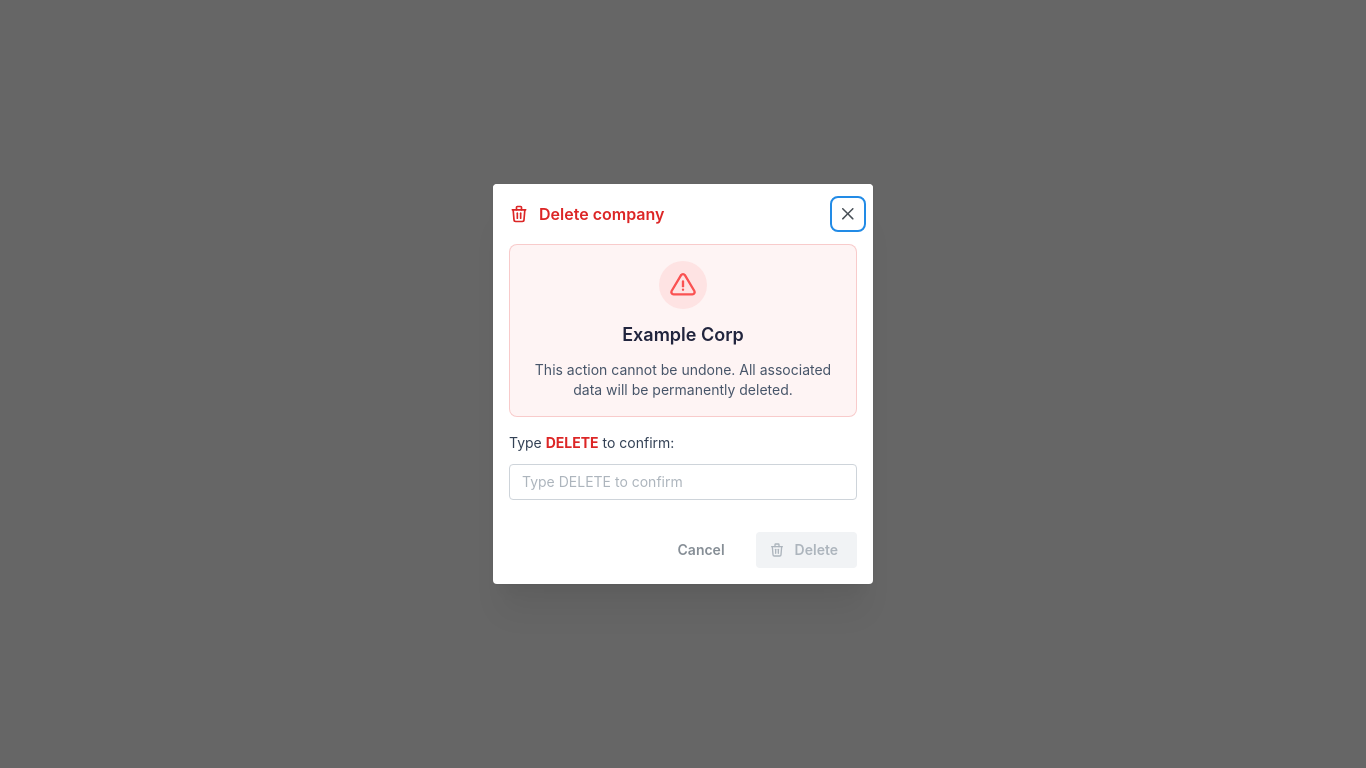
Test case: DeleteConfirmModal › typing DELETE enables the button
This screenshot has width=1366, height=768.
Check: the button "Delete" is disabled, box [756,532,857,568]
Type "DELETE" into the field with placeholder "Type DELETE to confirm" at (683, 482), box [509,464,857,500]
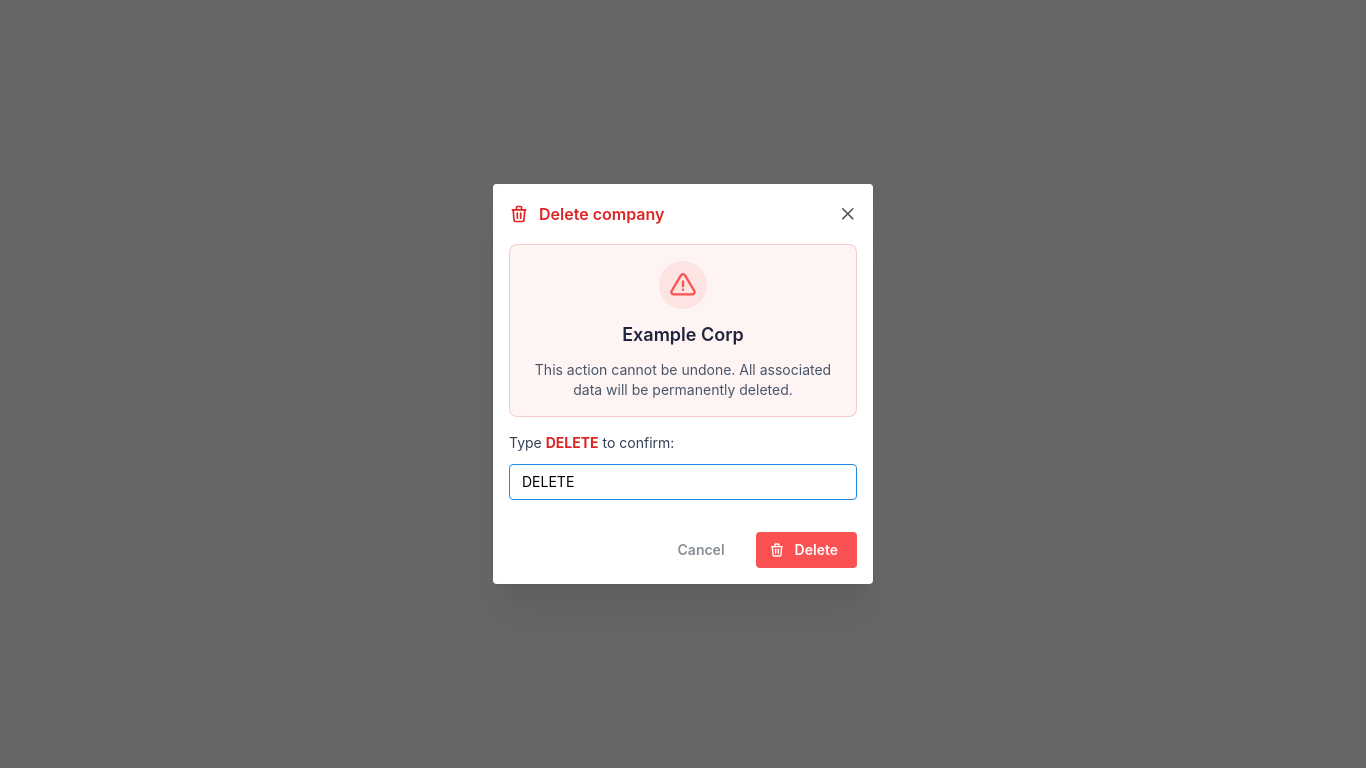
Check: the button "Delete" is enabled, box [756,532,857,568]
